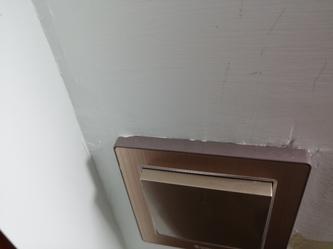switch: (141, 166, 281, 247)
